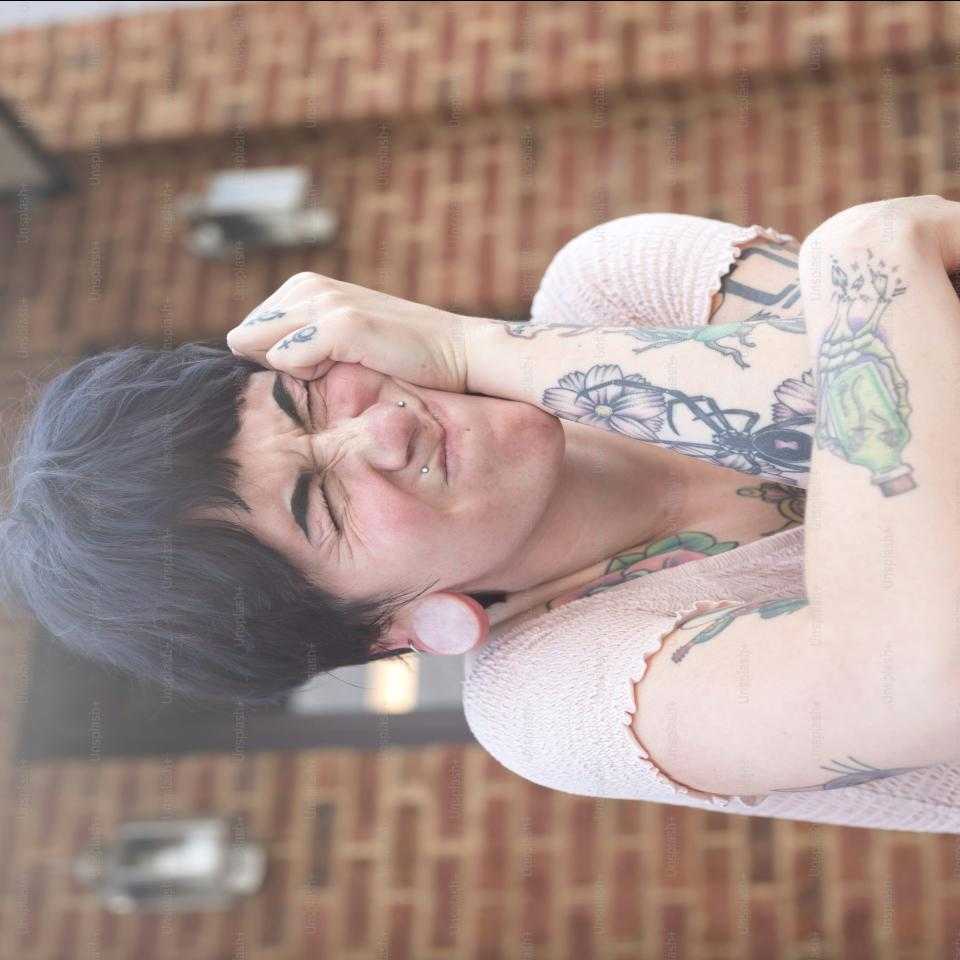Anger: (253, 373, 532, 576)
